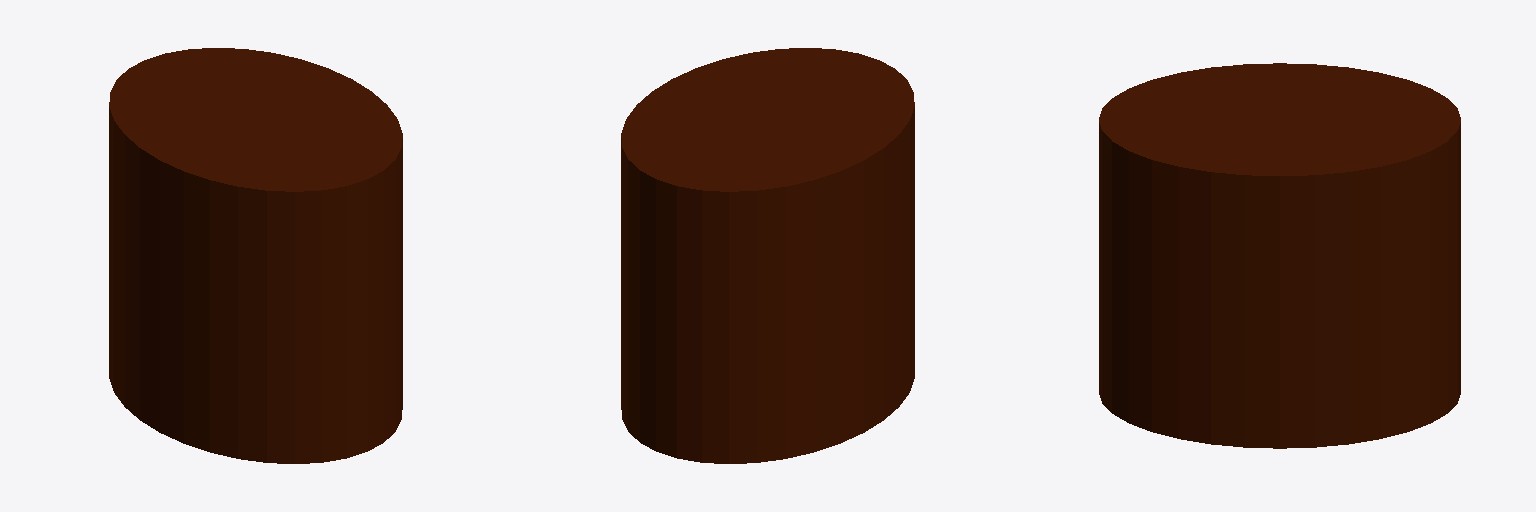
File: player_right.obj
The picture shows the model from 3 angles: view 1: azimuth 30°, elevation 25°; view 2: azimuth 150°, elevation 25°; view 3: azimuth 270°, elevation 25°; orthographic projection.
Parts seen in each view (by area): view 1: Cylinder004; view 2: Cylinder004; view 3: Cylinder004.
Boxes of the visible parts, x1=… form: Cylinder004: x1=109, y1=48, x2=402, y2=463; Cylinder004: x1=621, y1=48, x2=914, y2=463; Cylinder004: x1=1099, y1=63, x2=1460, y2=448.
Size of the model in its own units: 5.57 by 6.26 by 7.55.